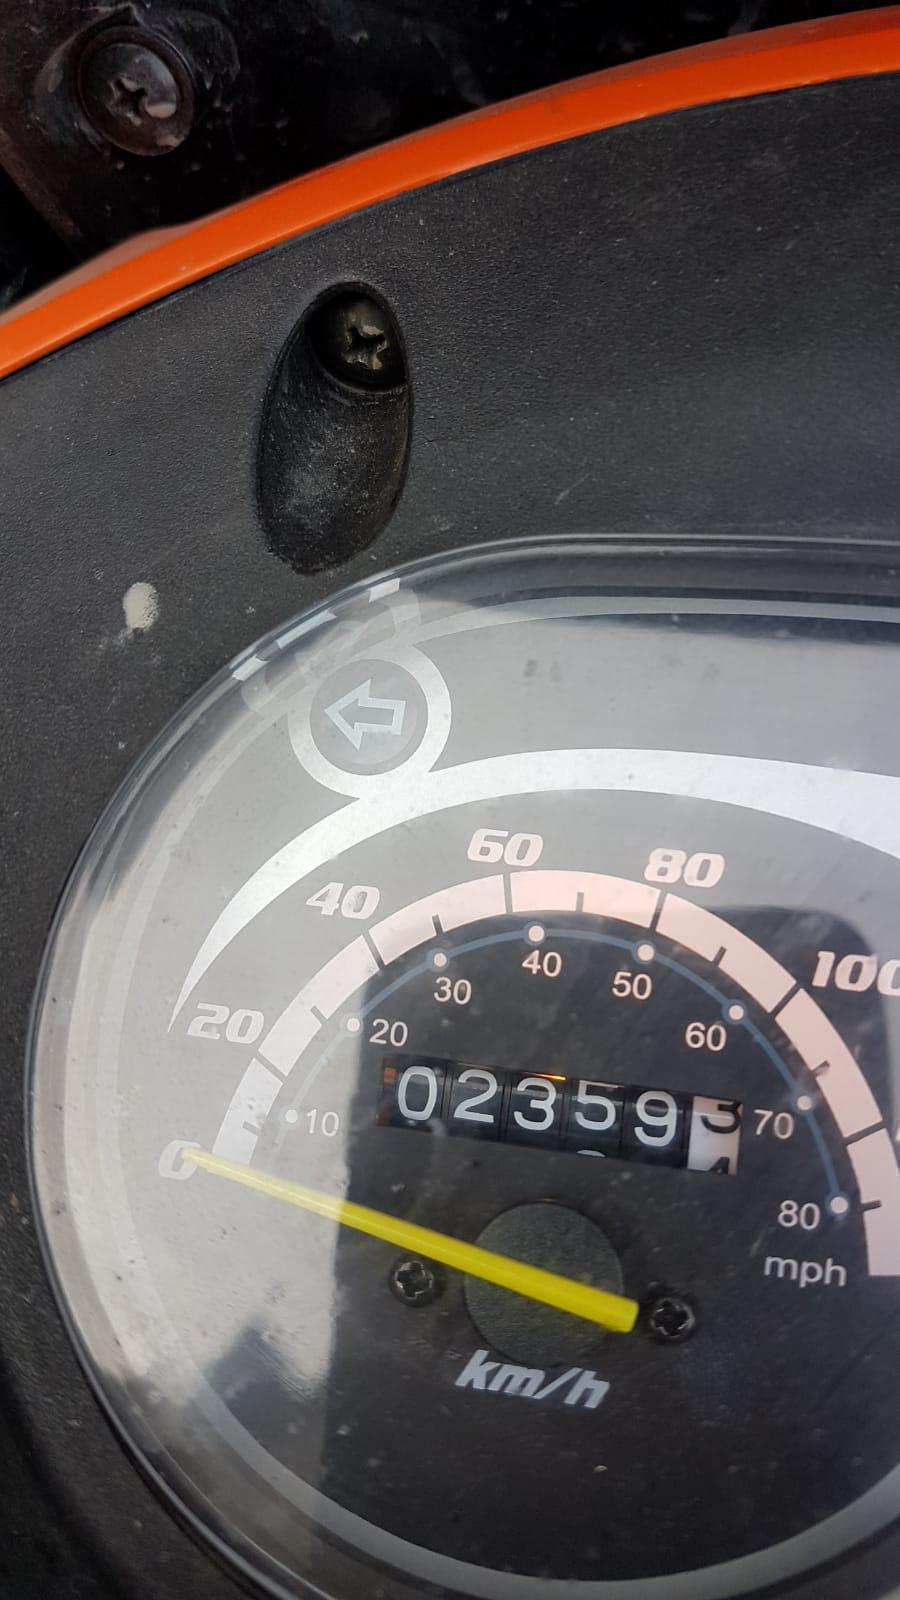0: (395, 1062, 436, 1124)
2: (452, 1063, 499, 1126)
3: (510, 1074, 558, 1132), (700, 1089, 743, 1137)
5: (574, 1077, 620, 1132)
9: (632, 1088, 679, 1149)
odometer: (376, 1046, 754, 1186)
